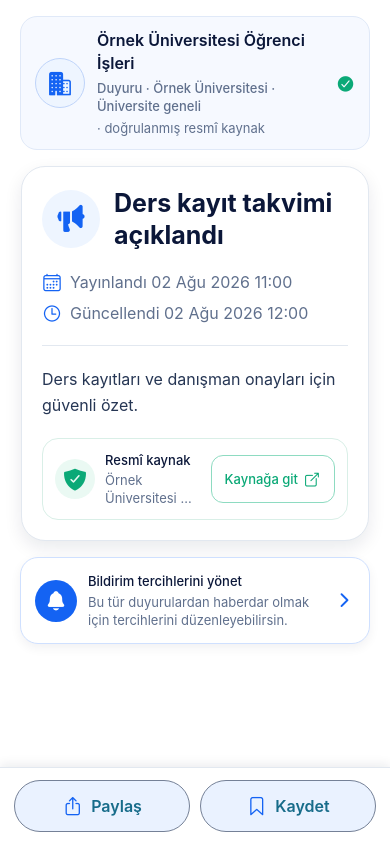
Test: Phase 8 announcement detail › contains unsupported official handoff failure in the current route
What coordinates should you click on to do the following:
click the button with aria-label "Resmî bağlantıyı aç: example.edu.tr"
I would click on:
 (273, 479)
Its box is [211,455,335,503].
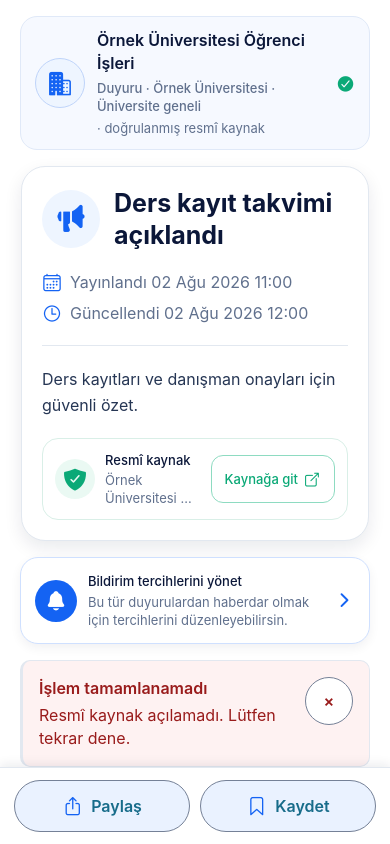
Expected: the heading "Ders kayıt takvimi açıklandı" is shown, [114,187,348,251]
Expected: the text "İşlem tamamlanamadı" is shown, [39,678,207,698]
Expected: the text "Resmî kaynak açılamadı. Lütfen tekrar dene." is shown, [39,704,293,750]
